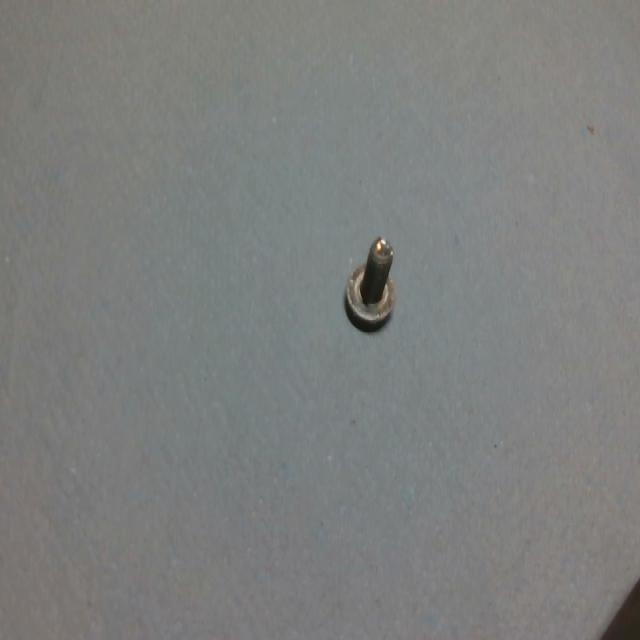Bolt: (333, 235, 396, 335)
